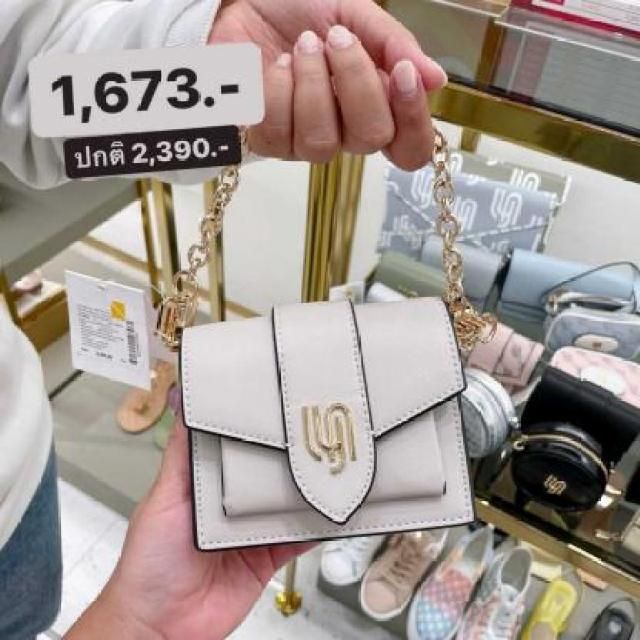Bag: (175, 262, 497, 555)
